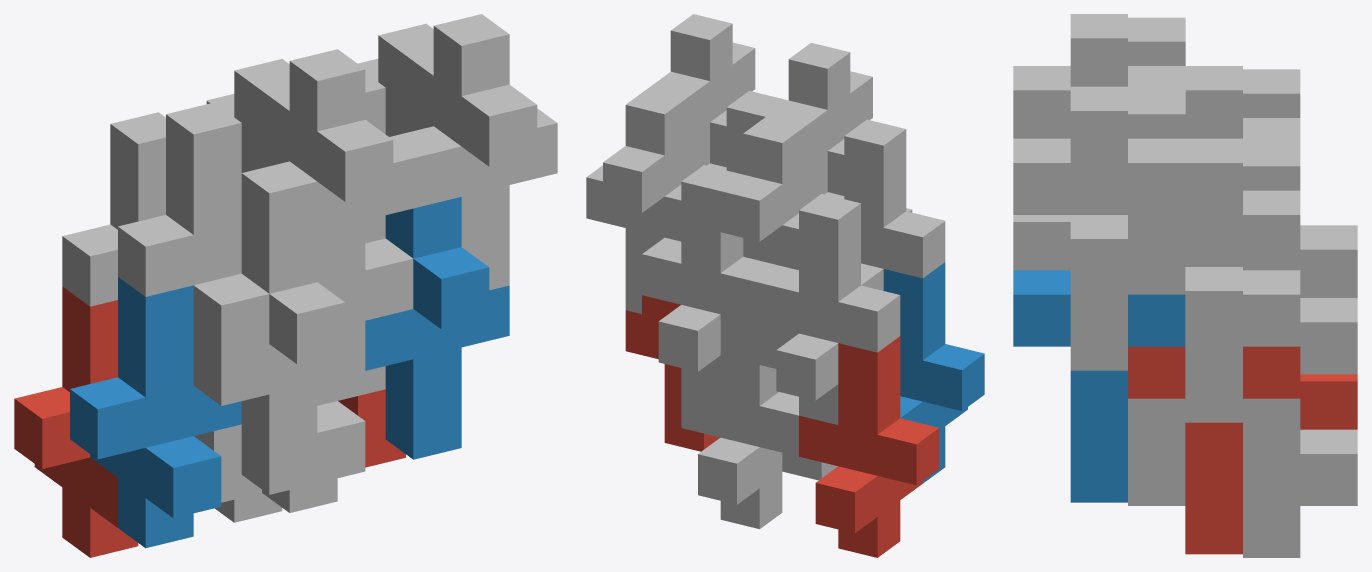
Rendered from tiling.obj.
The picture shows the model from 3 angles, left to right: view 1: azimuth 30°, elevation 25°; view 2: azimuth 150°, elevation 25°; view 3: azimuth 270°, elevation 25°; orthographic projection. The views are drawn at different scales.
Parts seen in each view (by area): view 1: copy_1_domain_2, copy_2_domain_4, copy_2_domain_8, copy_2_domain_2, copy_1_domain_4, copy_2_domain_6, copy_1_domain_1, copy_1_domain_3, copy_1_domain_6, copy_1_domain_8, copy_2_domain_3, copy_2_domain_7 (+3 smaller); view 2: copy_1_domain_1, copy_1_domain_3, copy_1_domain_7, copy_1_domain_5, copy_2_domain_7, copy_1_domain_4, copy_2_domain_3, copy_1_domain_2, copy_2_domain_4, copy_2_domain_8, copy_2_domain_5, copy_1_domain_8 (+1 smaller); view 3: copy_2_domain_8, copy_2_domain_7, copy_2_domain_6, copy_2_domain_5, copy_1_domain_7, copy_1_domain_5, copy_2_domain_4, copy_1_domain_3, copy_1_domain_6, copy_2_domain_3, copy_1_domain_8, copy_1_domain_1 (+2 smaller).
Boxes of the visible parts, <box> form: copy_1_domain_2: <box>70,277,241,548</box>; copy_2_domain_4: <box>241,49,413,325</box>; copy_2_domain_8: <box>389,14,557,290</box>; copy_2_domain_2: <box>193,223,365,494</box>; copy_1_domain_4: <box>118,102,269,355</box>; copy_2_domain_6: <box>365,197,509,459</box>; copy_1_domain_1: <box>14,286,138,557</box>; copy_1_domain_3: <box>62,112,165,306</box>; copy_1_domain_6: <box>262,366,385,512</box>; copy_1_domain_8: <box>365,73,413,320</box>; copy_2_domain_3: <box>206,59,289,172</box>; copy_2_domain_7: <box>358,23,433,136</box>; copy_1_domain_1: <box>799,336,939,557</box>; copy_1_domain_3: <box>759,194,900,424</box>; copy_1_domain_7: <box>642,165,781,396</box>; copy_1_domain_5: <box>681,314,798,529</box>; copy_2_domain_7: <box>586,88,709,313</box>; copy_1_domain_4: <box>825,119,945,290</box>; copy_2_domain_3: <box>720,117,827,270</box>; copy_1_domain_2: <box>883,262,984,483</box>; copy_2_domain_4: <box>766,42,872,195</box>; copy_2_domain_8: <box>648,14,755,167</box>; copy_2_domain_5: <box>625,295,720,451</box>; copy_1_domain_8: <box>707,91,787,174</box>; copy_2_domain_8: <box>1013,86,1185,370</box>; copy_2_domain_7: <box>1128,138,1300,422</box>; copy_2_domain_6: <box>1013,270,1185,502</box>; copy_2_domain_5: <box>1128,346,1300,554</box>; copy_1_domain_7: <box>1243,142,1357,426</box>; copy_1_domain_5: <box>1243,426,1357,557</box>; copy_2_domain_4: <box>1013,14,1185,138</box>; copy_1_domain_3: <box>1243,69,1357,297</box>; copy_1_domain_6: <box>1128,398,1185,505</box>; copy_2_domain_3: <box>1185,66,1300,142</box>; copy_1_domain_8: <box>1128,90,1185,294</box>; copy_1_domain_1: <box>1300,374,1357,429</box>.
Bounding box in the file's own units: 9 × 10 × 6.
